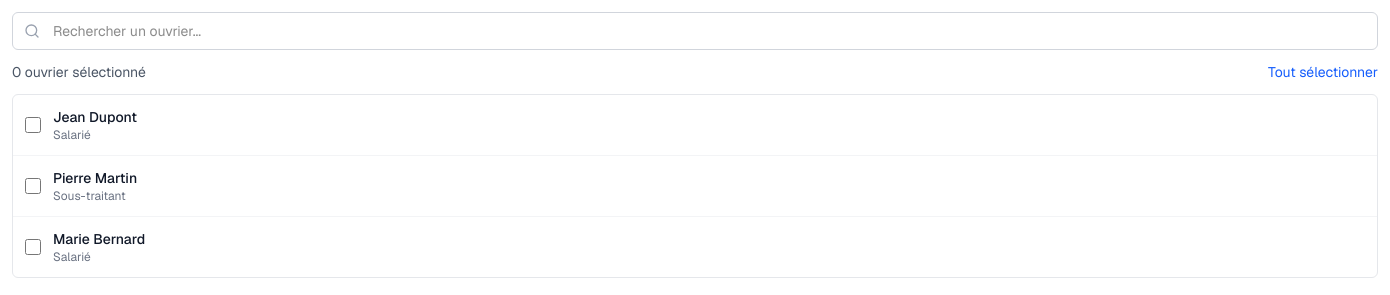
Scenario: SelectionOuvriersChantier › filtre les ouvriers par nom
Type "Dupont" into the field with placeholder "Rechercher un ouvrier...".
click(695, 31); type("Dupont")  # box [12,12,1378,50]
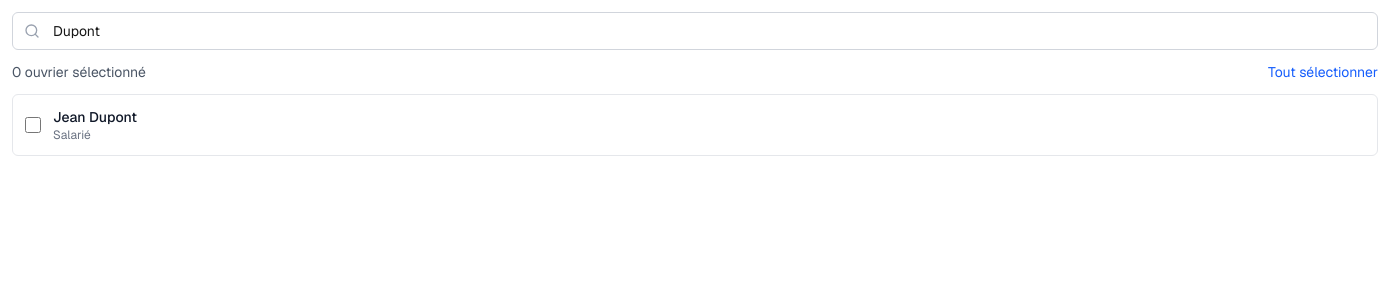
Expected: the text "Jean Dupont" is shown, [53,107,137,127]
Expected: the text "Pierre Martin" is gone
Expected: the text "Marie Bernard" is gone
